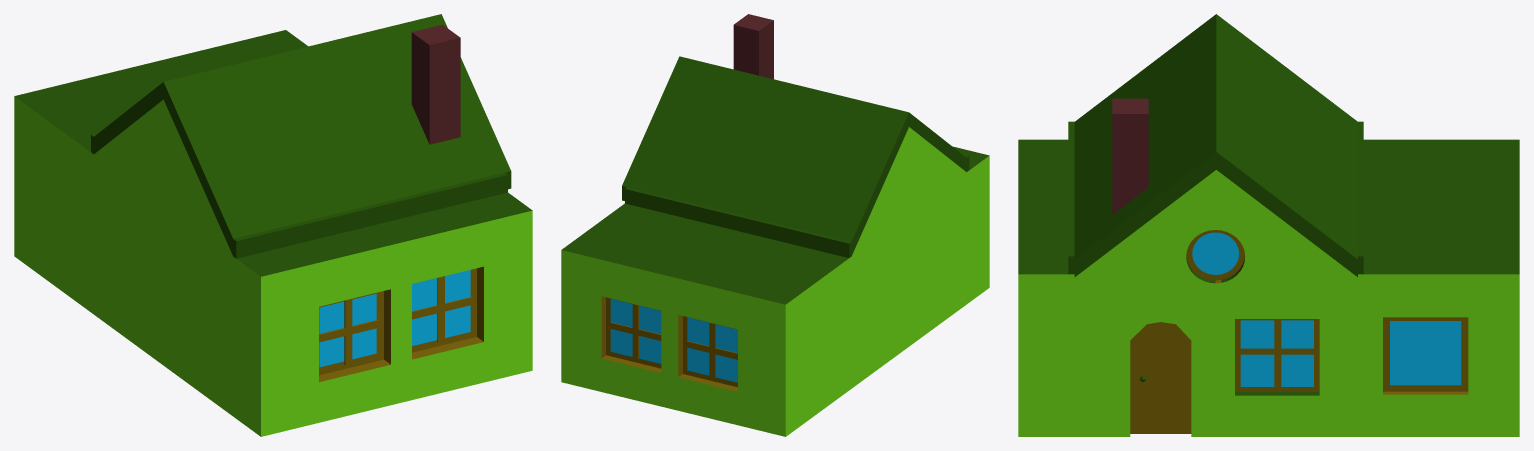
File: Green House 4.fbx
3 renders of one model, left to right at view 1: azimuth 30°, elevation 25°; view 2: azimuth 150°, elevation 25°; view 3: azimuth 270°, elevation 25°, orthographic. The views are drawn at different scales.
Parts seen in each view (by area): view 1: Cube, Cube.002; view 2: Cube, Cube.002; view 3: Cube, Cube.002.
Boxes of the visible parts, x1,y1,x2,y2 form: Cube: [14, 14, 532, 436]; Cube.002: [411, 24, 460, 144]; Cube: [561, 56, 989, 436]; Cube.002: [733, 14, 773, 79]; Cube: [1018, 14, 1519, 436]; Cube.002: [1112, 98, 1148, 214].
Size of the model in its own units: 258 by 271 by 397.
